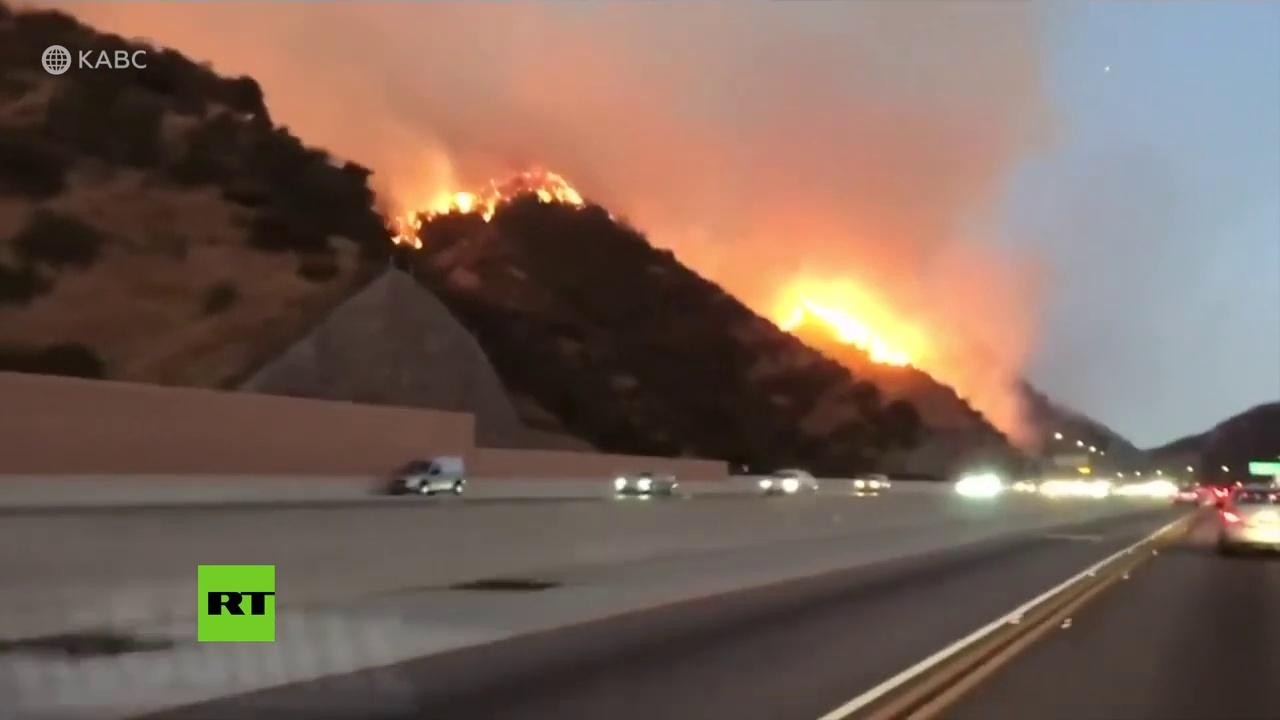Fire: (770, 282, 919, 370), (386, 188, 498, 253), (535, 169, 585, 208)
